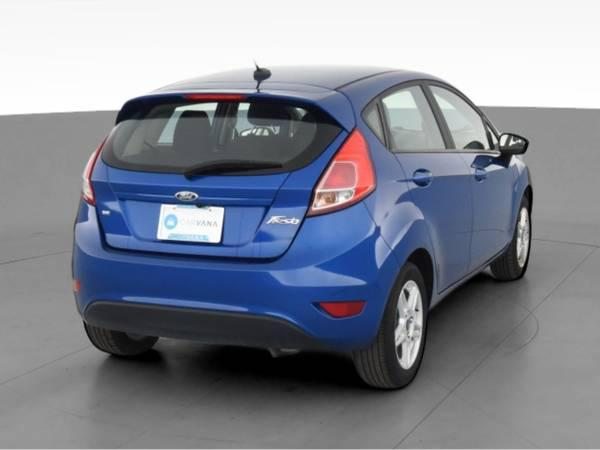Front_Right_Door: (457, 154, 517, 274)
Front_Right_Window: (429, 83, 512, 154)
Left_Taillight: (80, 134, 110, 209)
Rear_Bumper: (73, 199, 402, 351)
Rear_Fender: (358, 96, 428, 266)
Rear_Right_Door: (392, 150, 471, 303)
Rear_Right_Window: (379, 83, 458, 151)
Rear_Windshield: (103, 97, 346, 174)
Right_Taillight: (309, 125, 378, 214)
Roof: (112, 62, 448, 126)
Tailgate: (92, 155, 326, 261)
Wheel: (353, 265, 427, 389), (493, 205, 533, 279), (84, 320, 163, 355)
